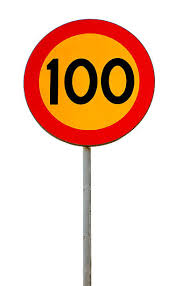Speed_limit_100km: (23, 19, 155, 146)
